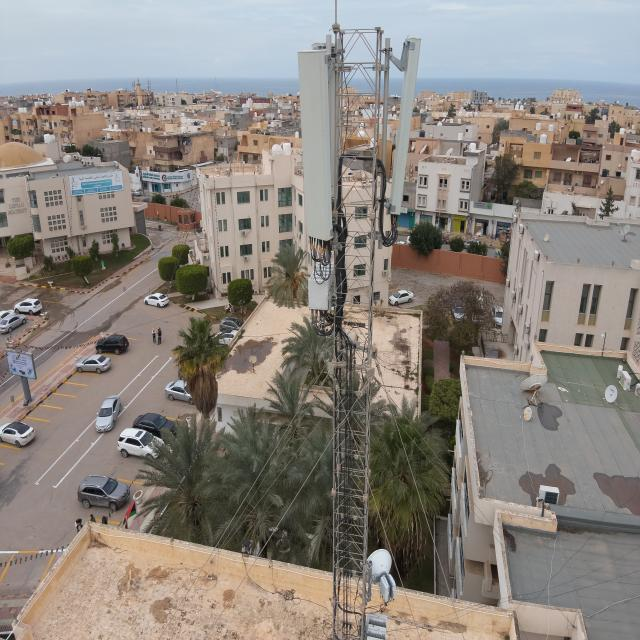antenna: (292, 46, 346, 245), (388, 35, 427, 214)
lighnig-rad: (332, 0, 338, 29)
microware-dish: (360, 540, 401, 603)
power-box: (358, 606, 394, 640)
radio-unit: (306, 260, 334, 320)
